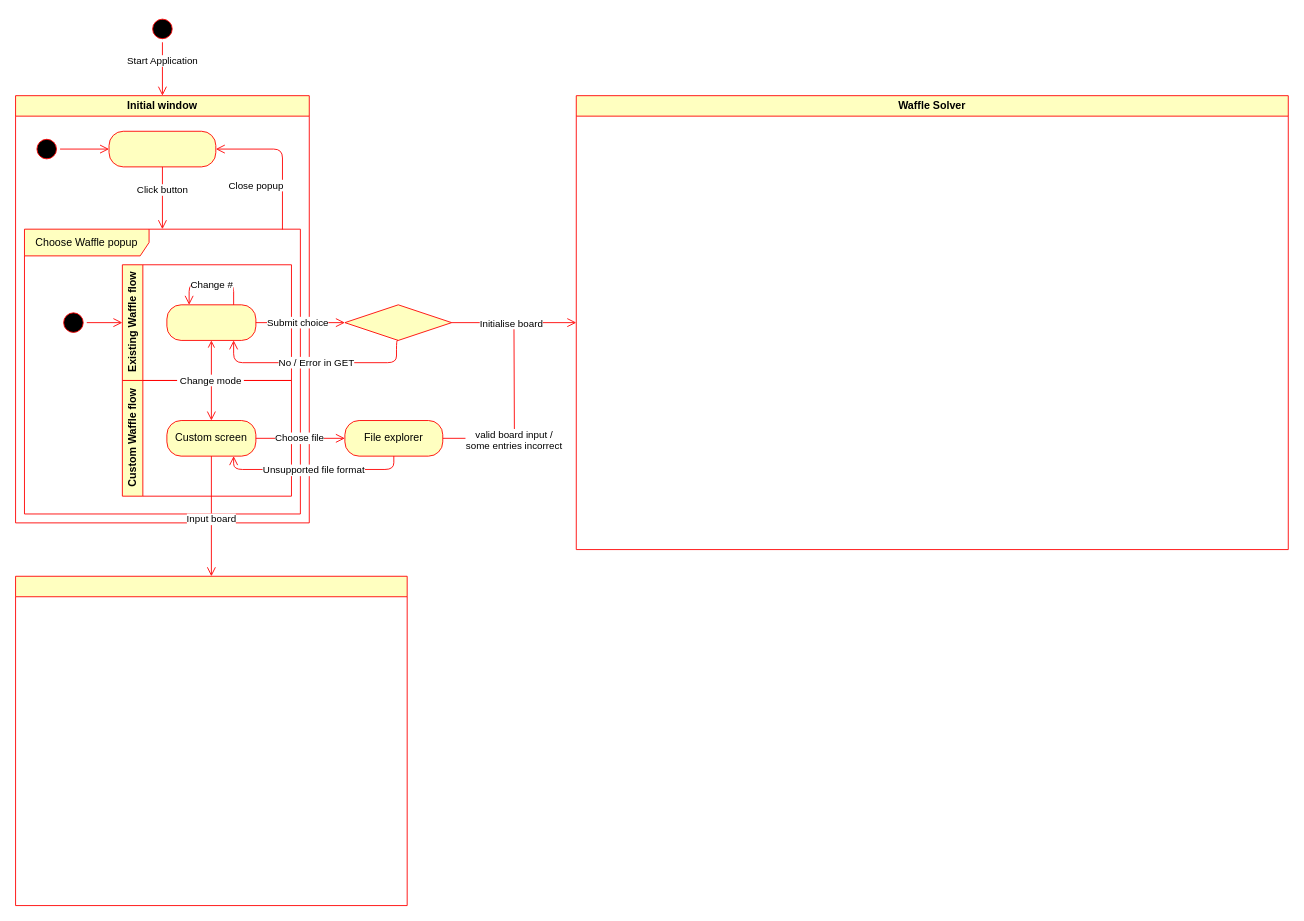
Some shapes in this 1304 by 921 pixel diagram are drawn without their labels. The shapes that lost their labels are listed below. From the top down, each one's centre as x and y in pixels, then its label:
At (162,148): "Startup screen".
At (211,322): "Existing screen".
At (398,322): "valid Waffle #".
At (211,740): "Edit Waffle".
